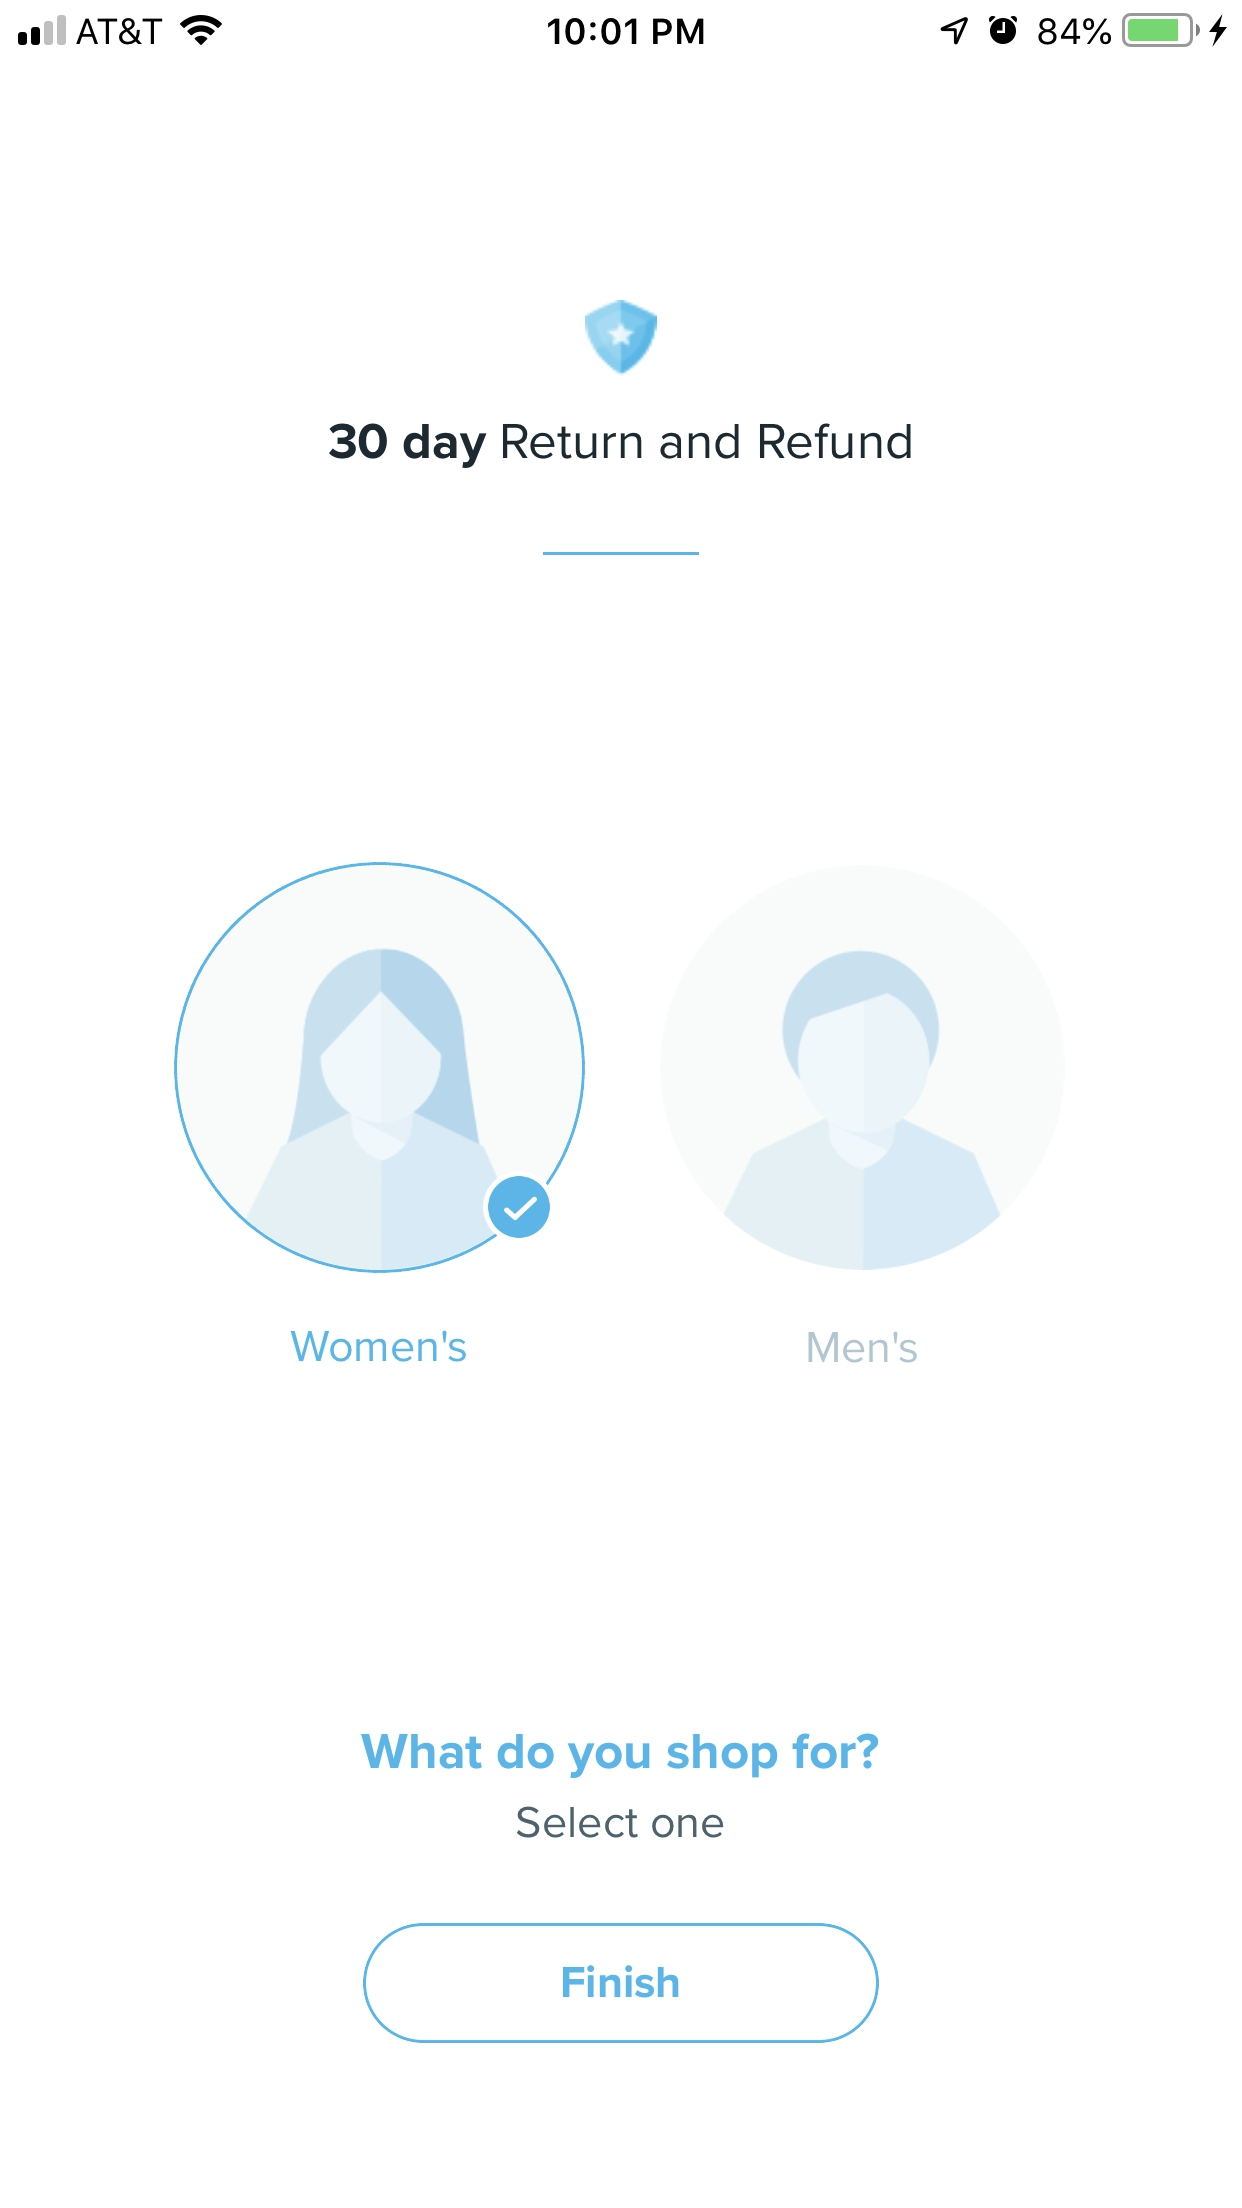Icon: (484, 1171, 552, 1240)
Image: (174, 861, 587, 1275), (660, 864, 1065, 1271), (584, 299, 658, 376)
Text: (329, 423, 911, 470), (362, 1732, 880, 1779), (516, 1805, 725, 1839), (290, 1330, 469, 1363), (808, 1330, 919, 1363)
TextButton: (362, 1921, 881, 2044)
UpperTaskBar: (2, 2, 1242, 49)
